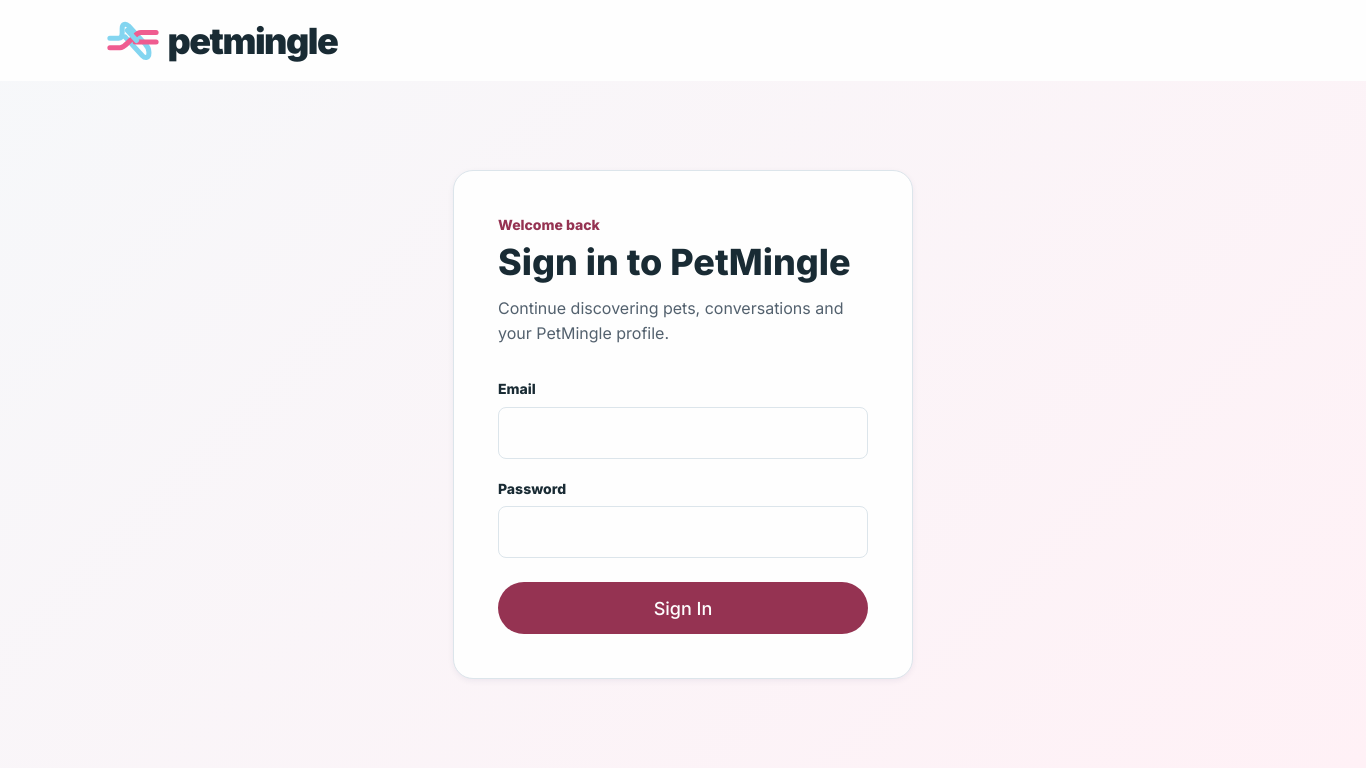
SignInPage › shows a safe message for invalid credentials
Type "hamza@example.com" into the field labelled "Email" at [683, 433], box [498,407,868,459]
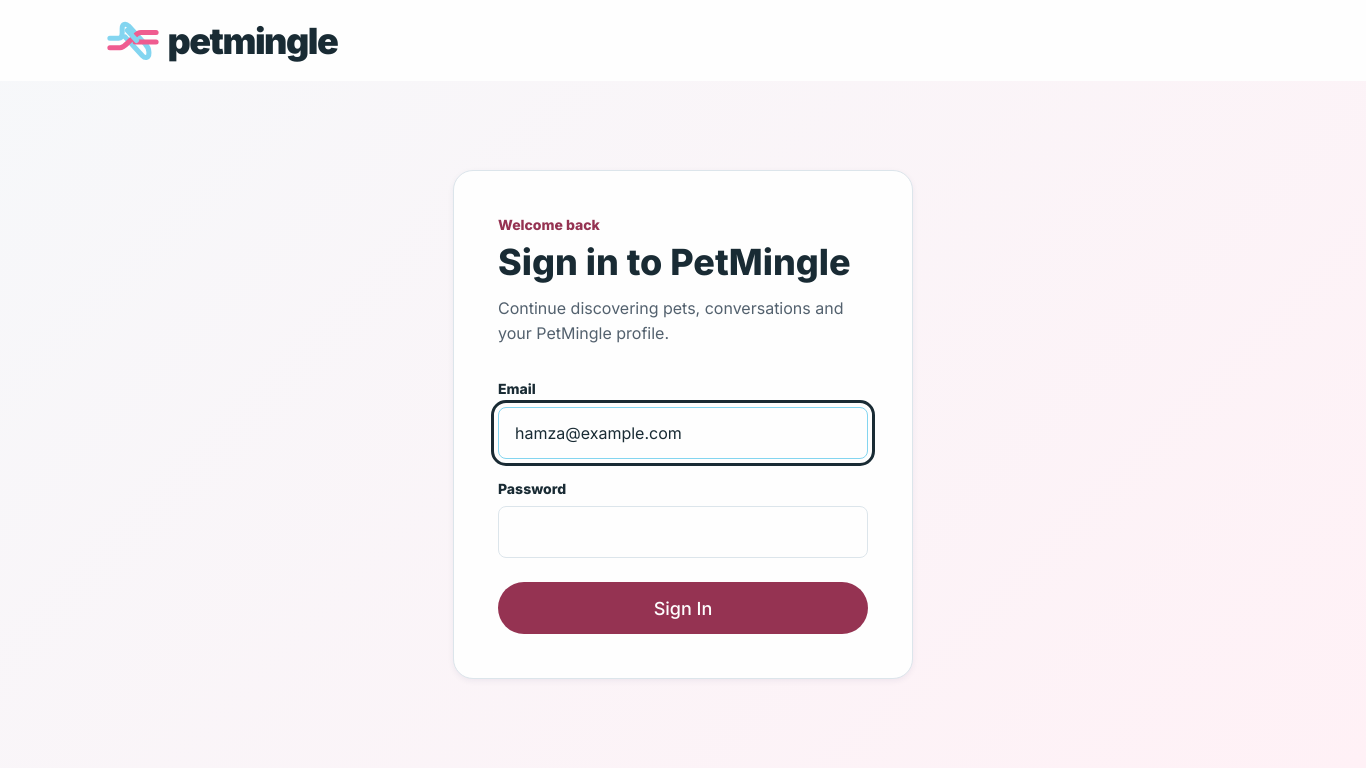
Type "wrong-password" into the password field labelled "Password" at [683, 532], box [498,506,868,558]
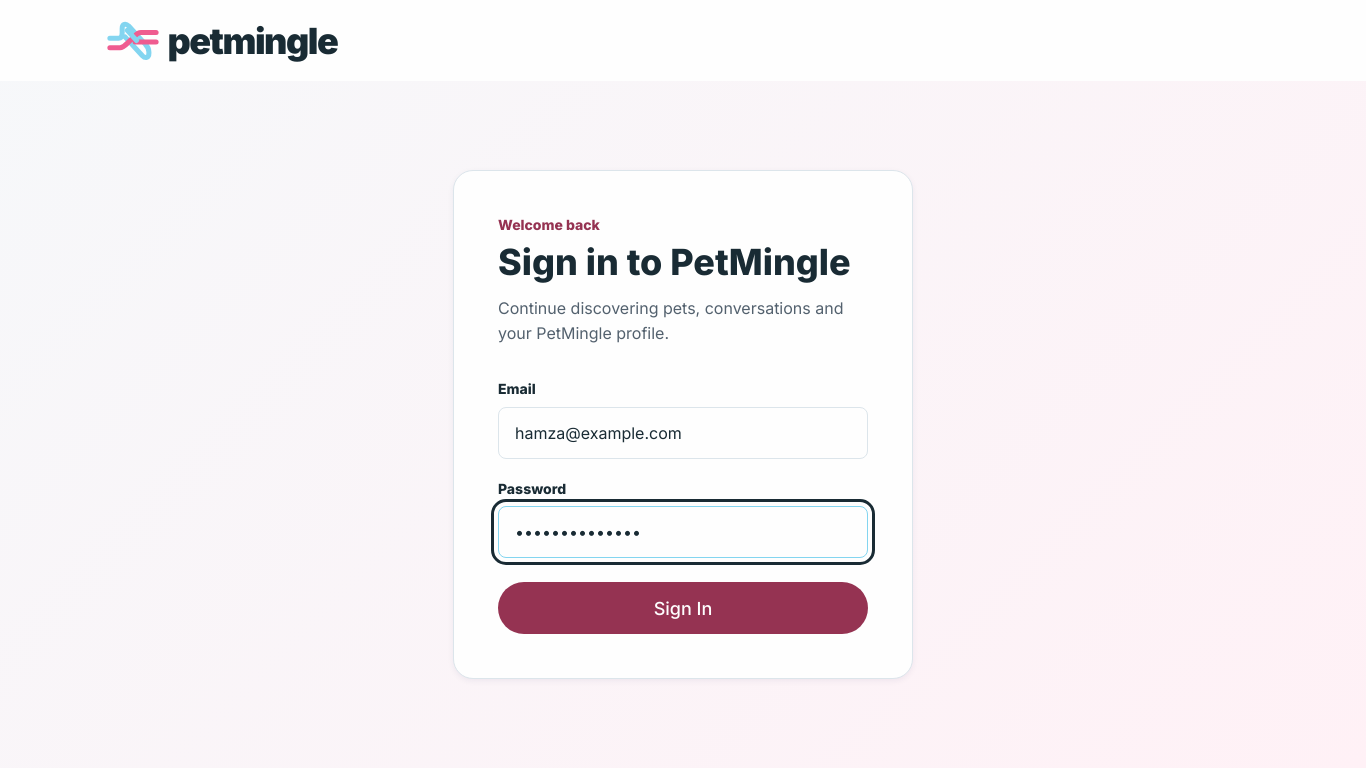
Click the button "Sign In" at [683, 608], box [498,582,868,634]
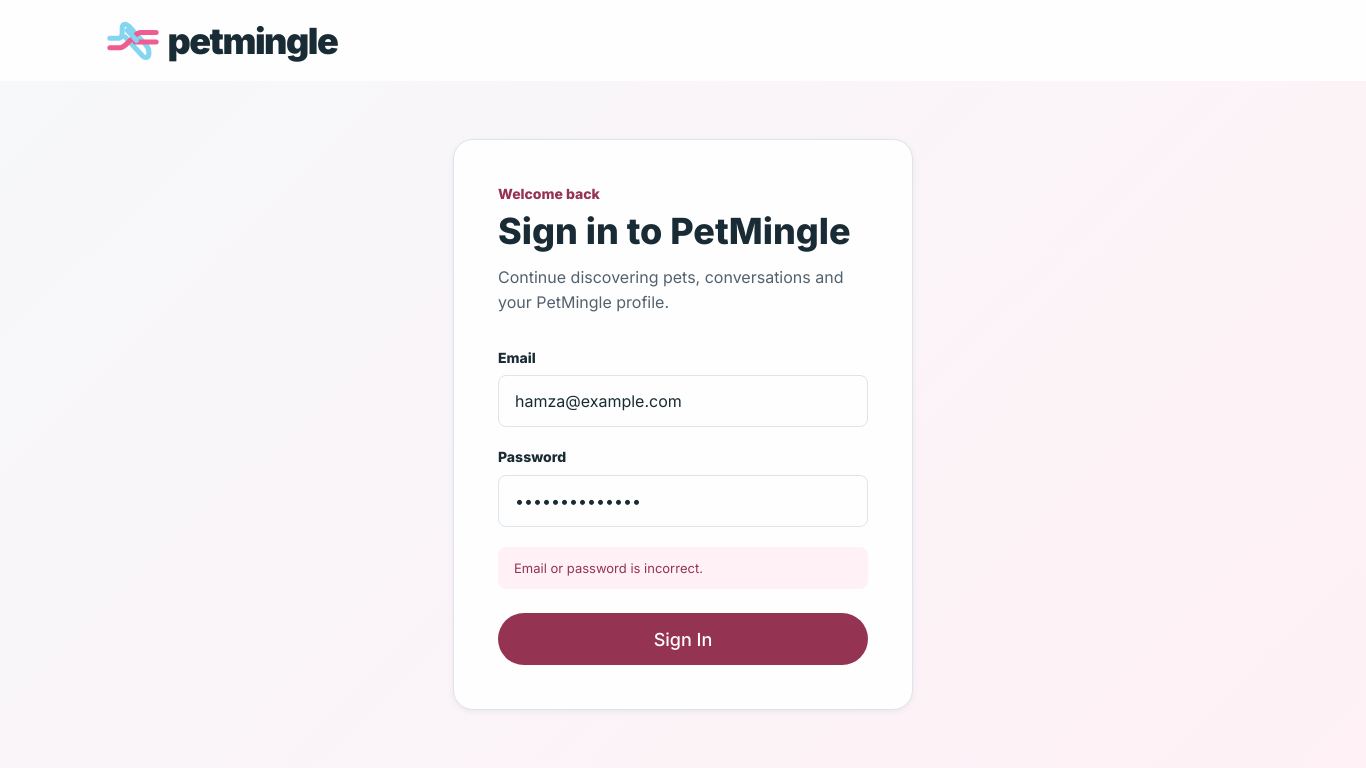
Check: the message reads "Email or password is incorrect.", box [514,560,703,576]
